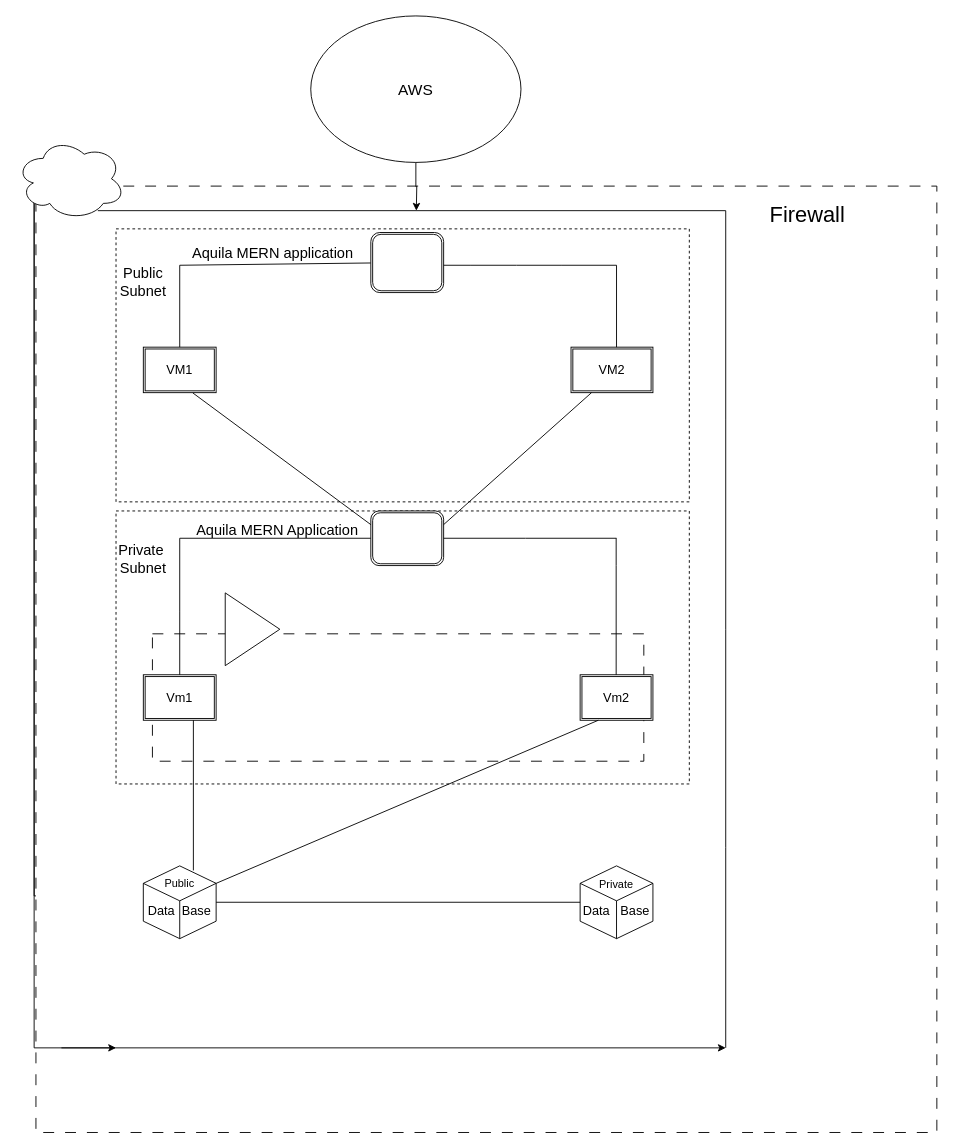
Some shapes in this 953 by 1148 pixel diagram are drawn without their labels. Each missing label, with the centre of its shape:
"App Load Balamcer" goes at [407,262].
"App Load Balancer" goes at [407,538].
"VPC" goes at [70,178].
"vpn" goes at [252,629].
